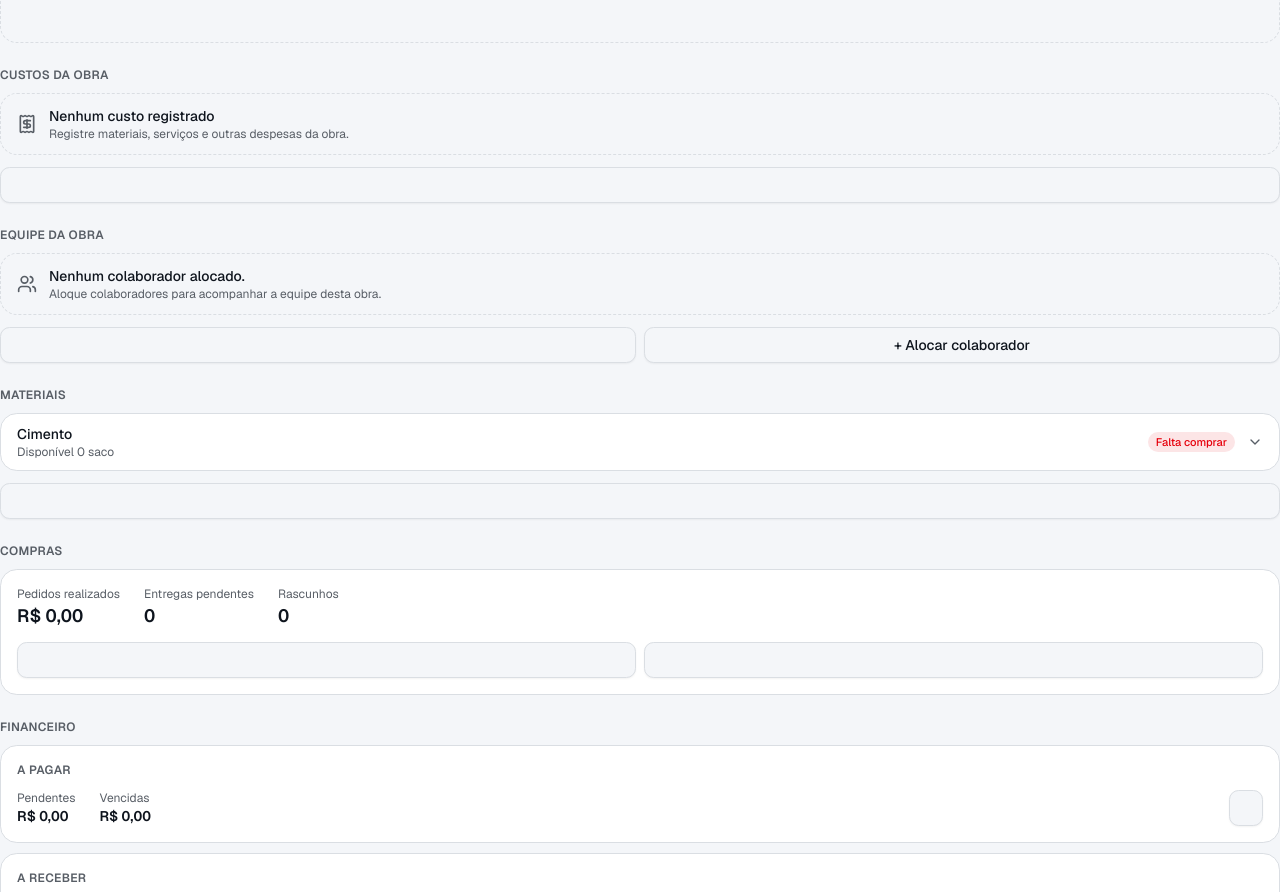
Test case: ProjectDetail › Materiais section — SUPPLY-FRONTEND-01D §37 › PD5: required_quantity is displayed from the real StockPosition decimal string
(page scrolled)
Click the button "Cimento Disponível 0 saco Falta comprar" at [45, 434], box [17,414,1263,470]
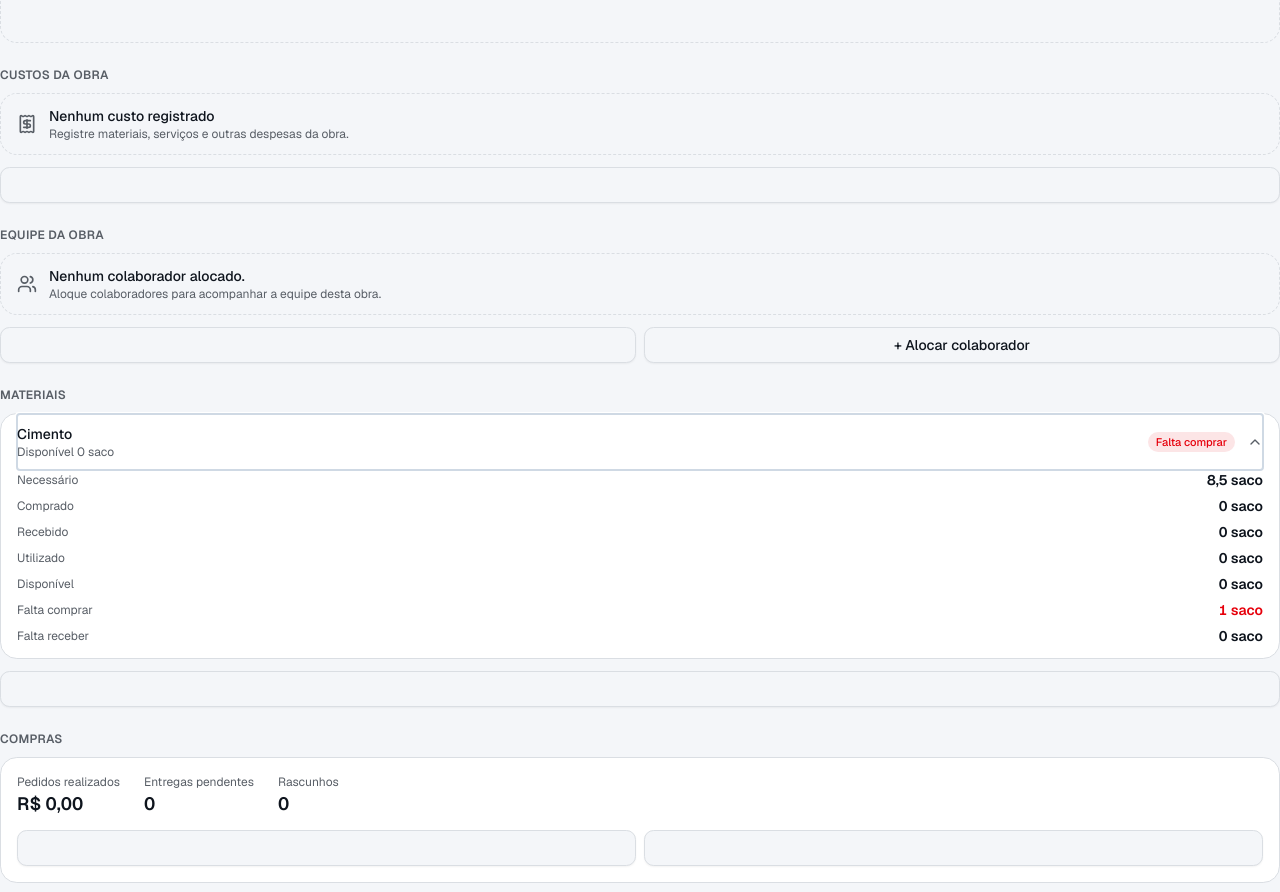
Check: the text "8,5 saco" is shown, box [1207,470,1263,490]
